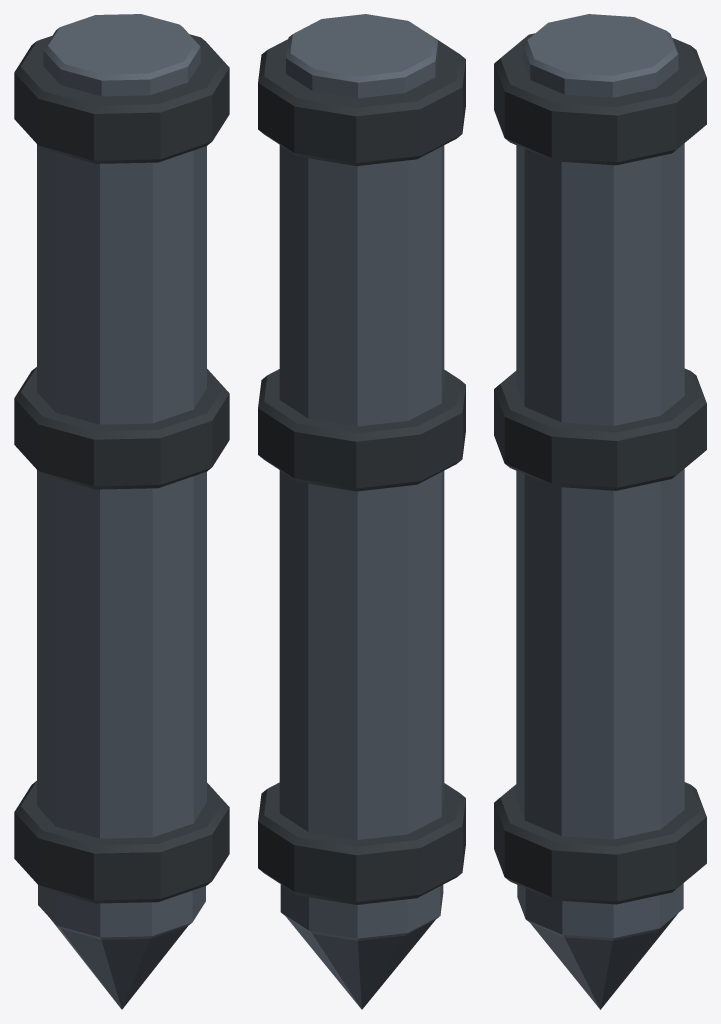
Rendered from Stun02.fbx.
3 renders of one model, left to right at view 1: azimuth 30°, elevation 25°; view 2: azimuth 150°, elevation 25°; view 3: azimuth 270°, elevation 25°, orthographic.
Visible parts, largest first — view 1: Stun02; view 2: Stun02; view 3: Stun02.
Boxes of the visible parts, x1,y1,x2,y2 form: Stun02: (14,14,229,1009); Stun02: (258,14,465,1009); Stun02: (494,14,706,1009).
Bounding box in the file's own units: 42.75 × 214 × 42.75.
